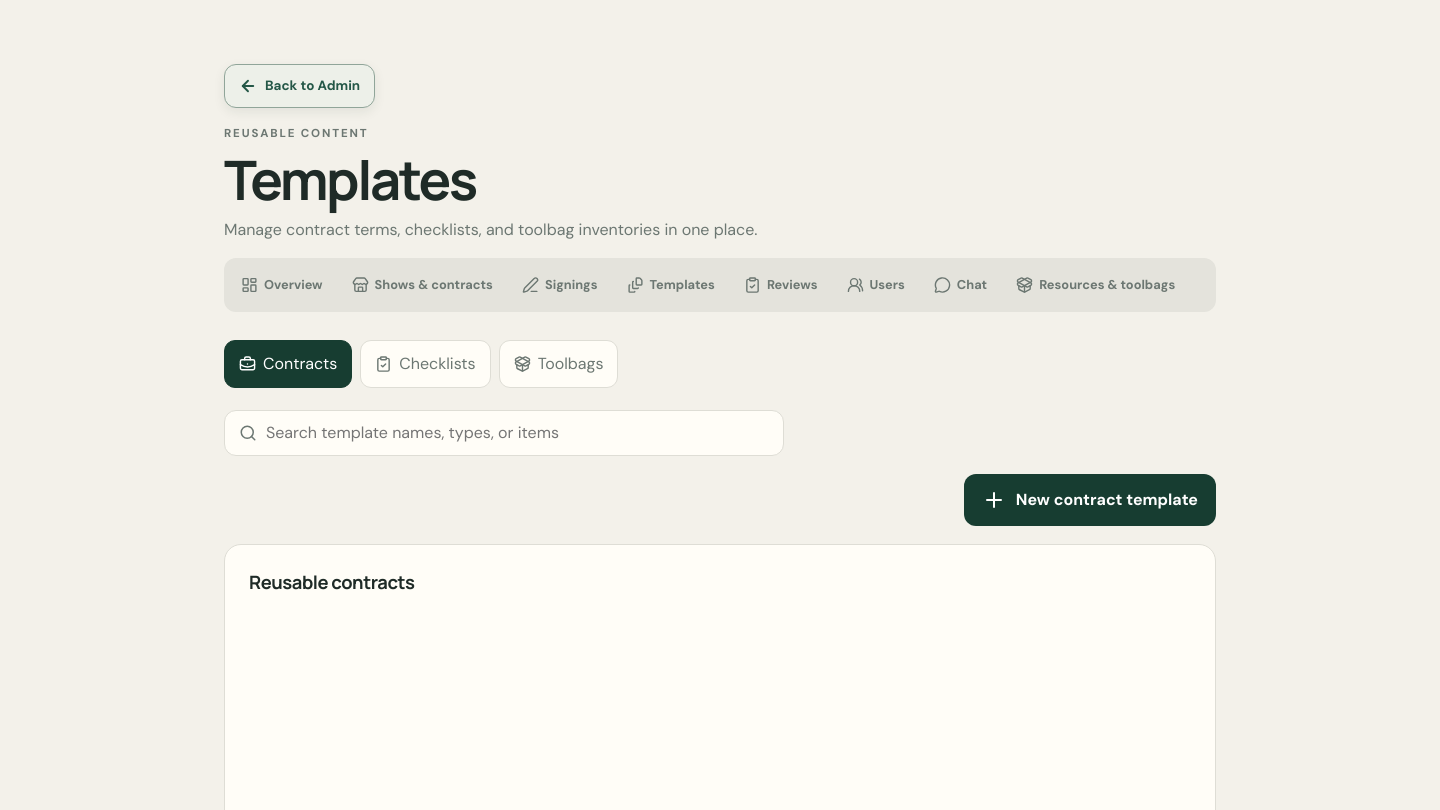
Test: reordering retains existing identities, flags and instructions
Click the button "Checklists" at (426, 364), box [360,340,491,388]
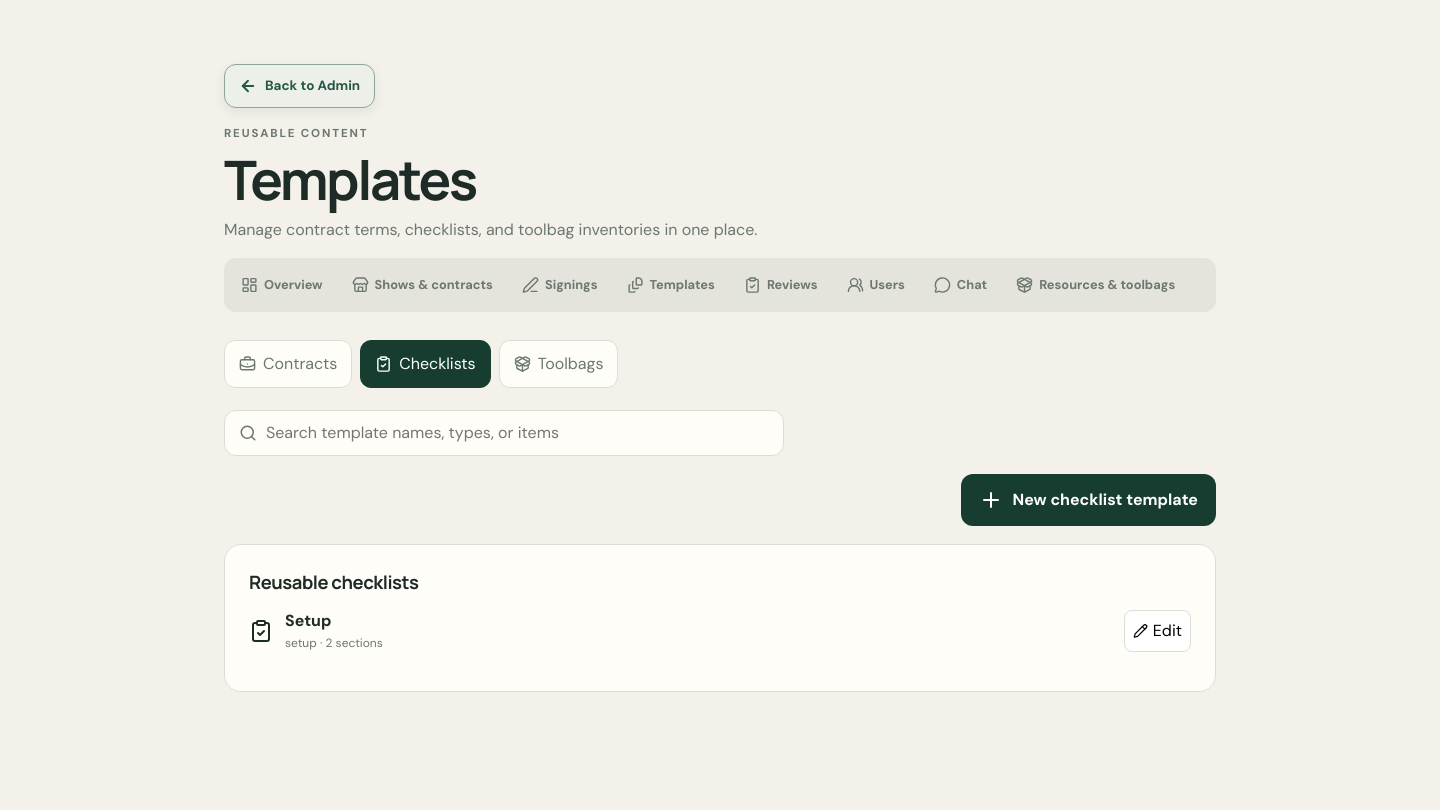
Click the button "Edit" at (1157, 631), box [1124,610,1191,652]
(page scrolled)
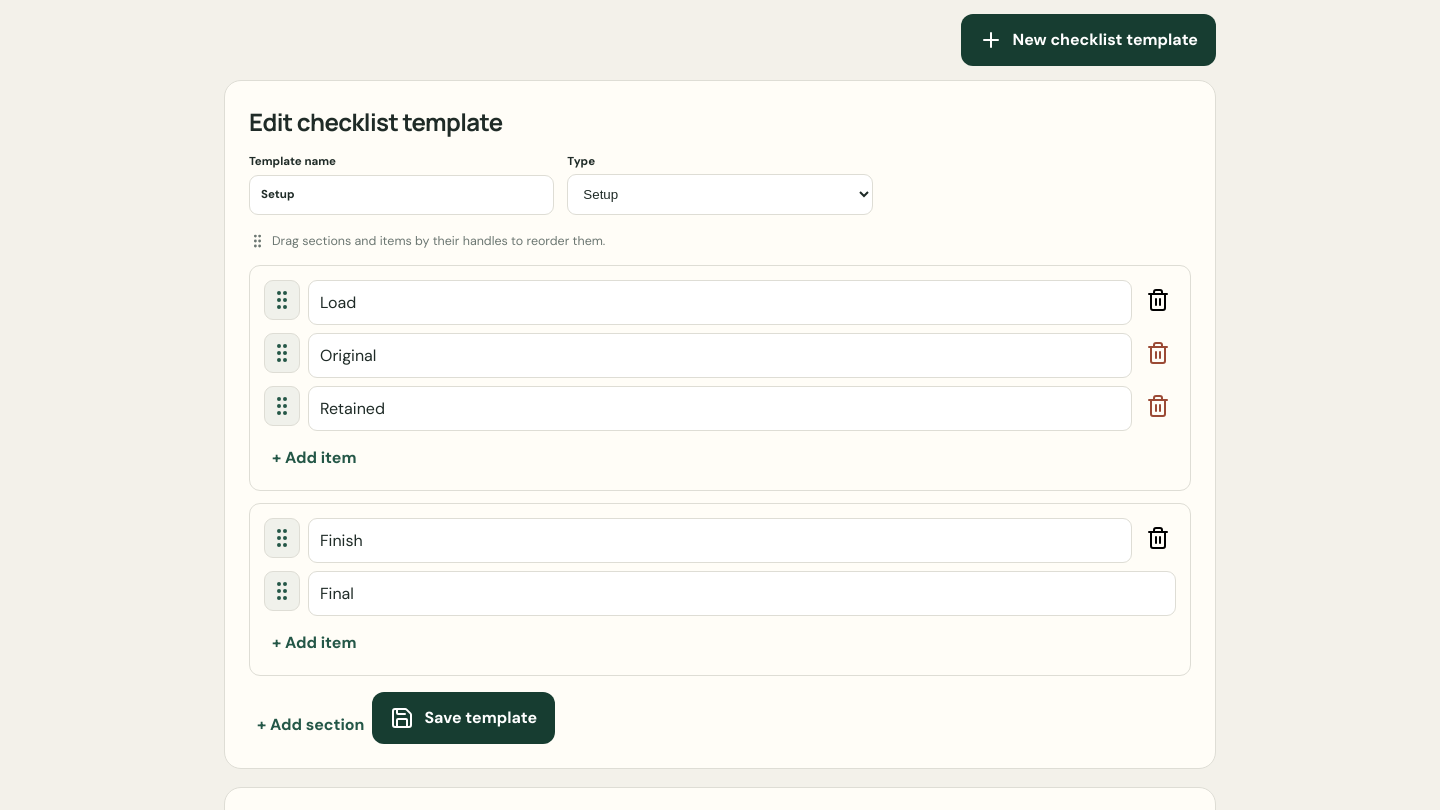
Press ArrowUp in the button named "Reorder Retained", box [264,386,300,426]
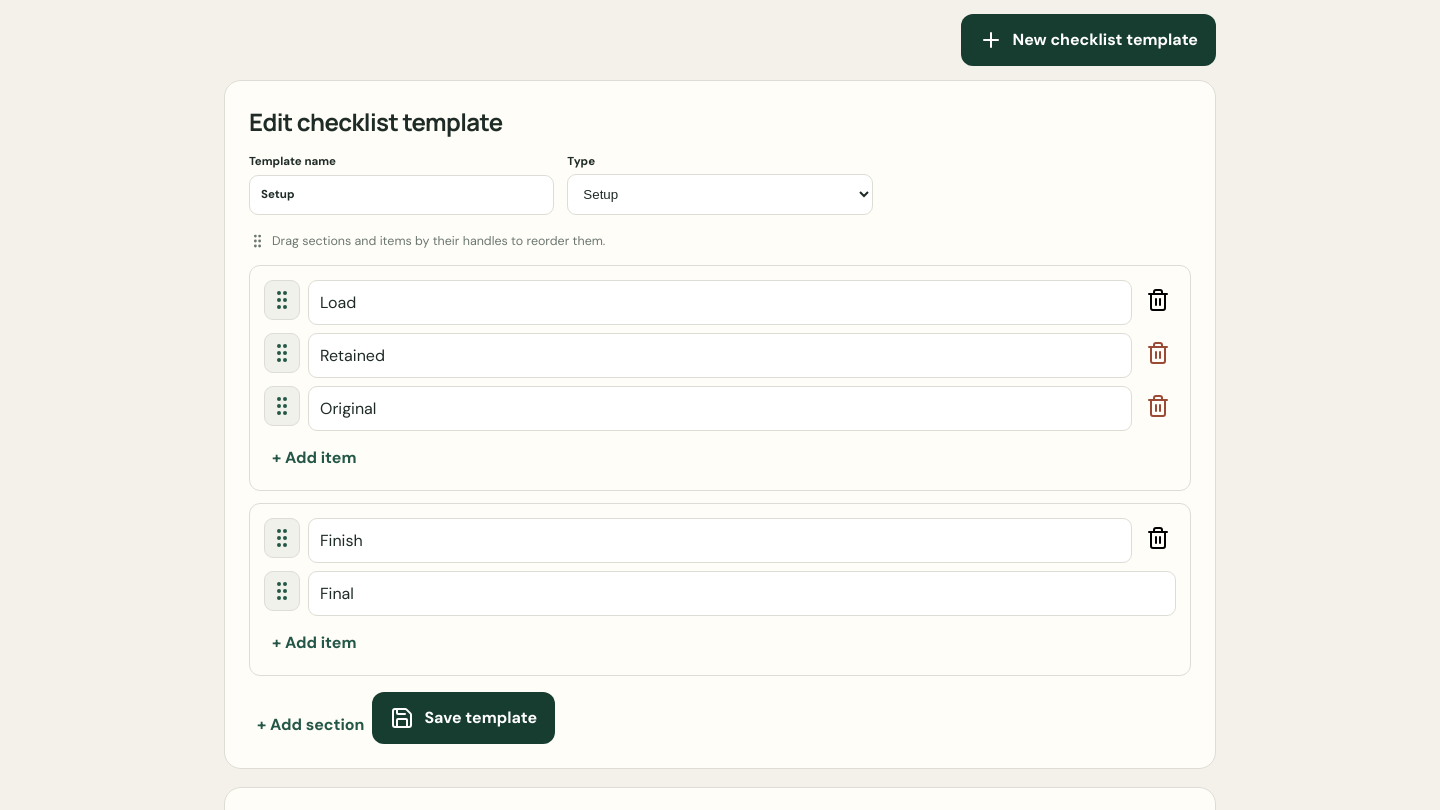
Press ArrowUp in the button named "Reorder Finish", box [264,518,300,558]
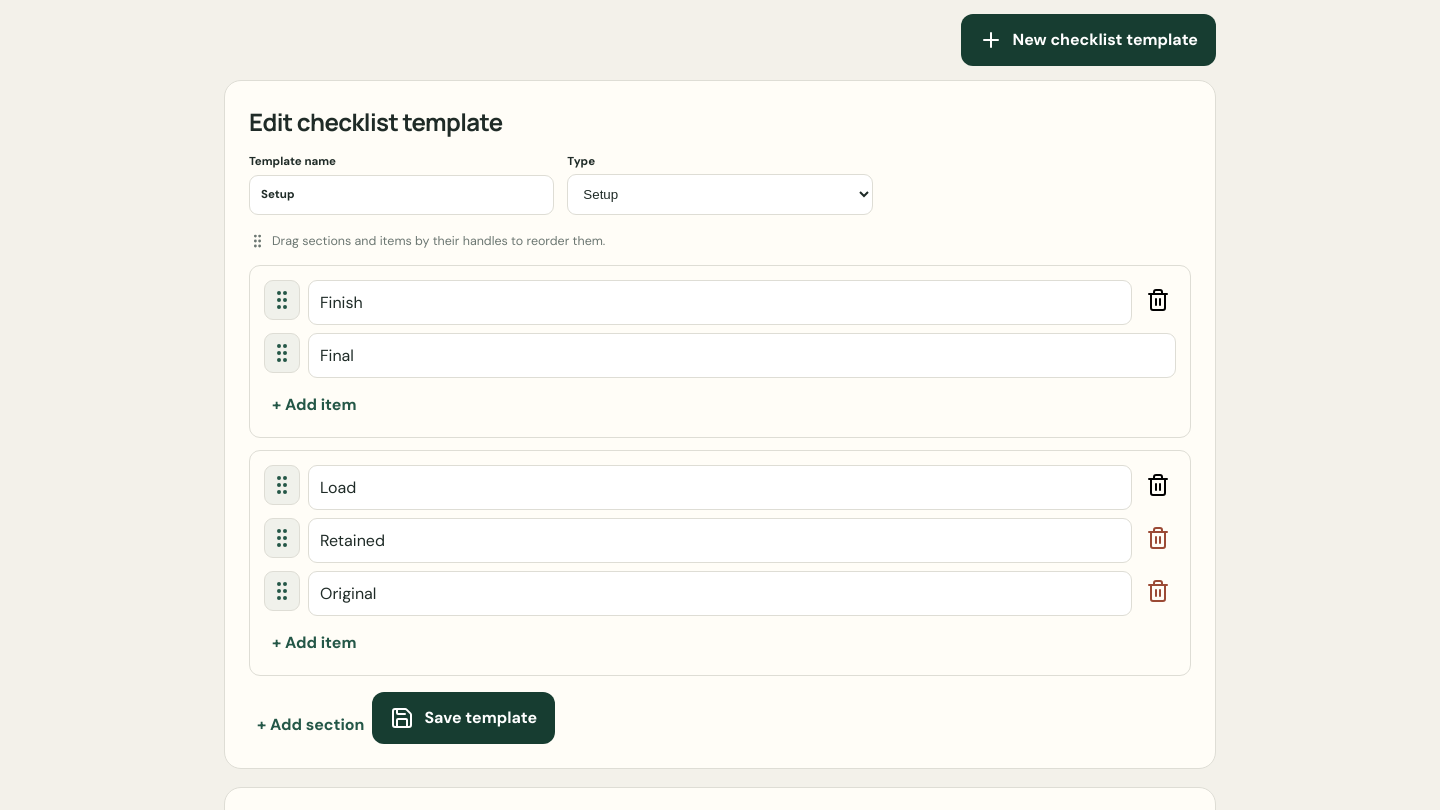
Submit the form named "Save template", box [224,80,1216,769]
(page scrolled)
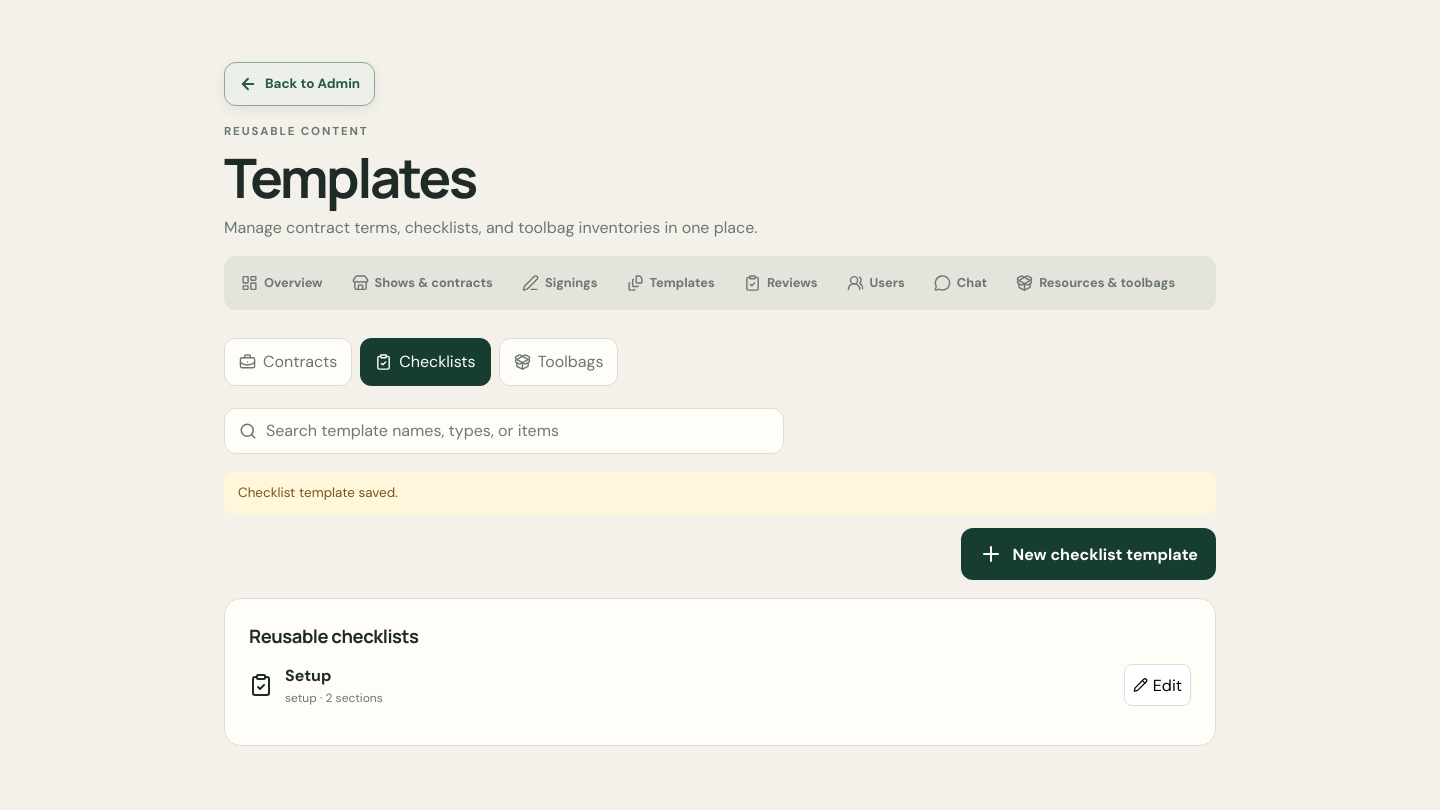
expect the text "Checklist template saved." is shown: met, box [224,472,1216,515]
